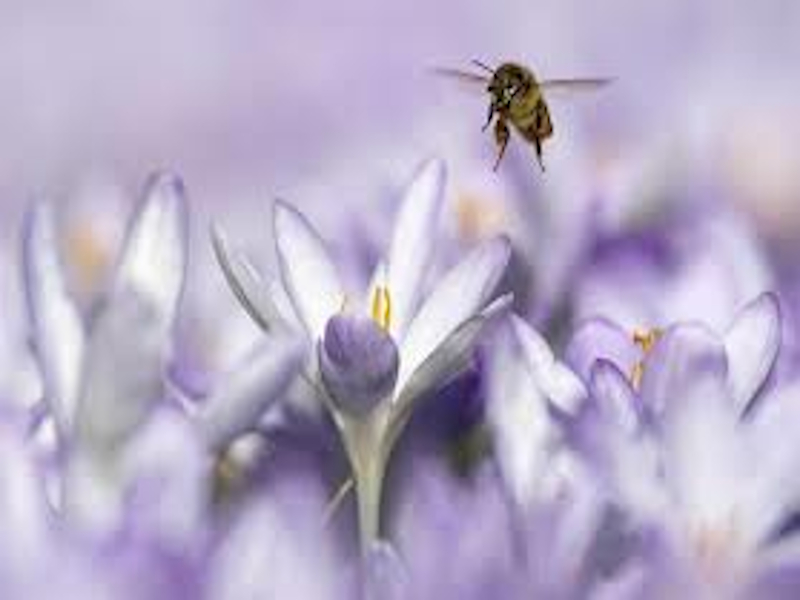abeja: (428, 45, 628, 179)
